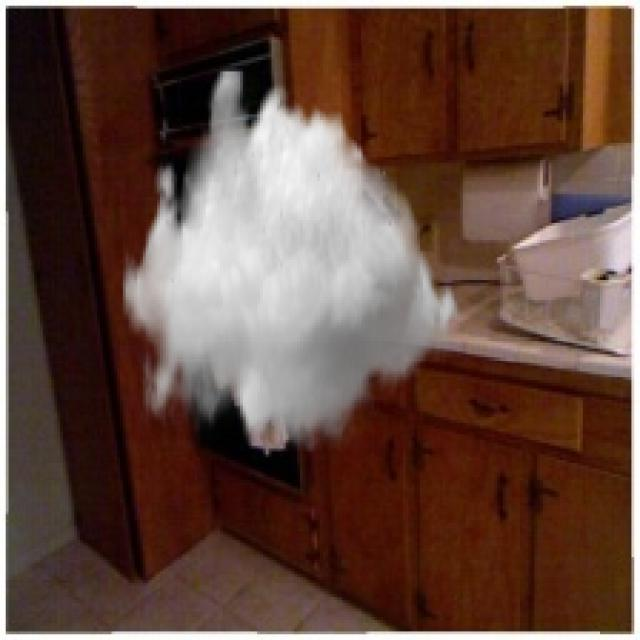smoke: (123, 69, 466, 452)
